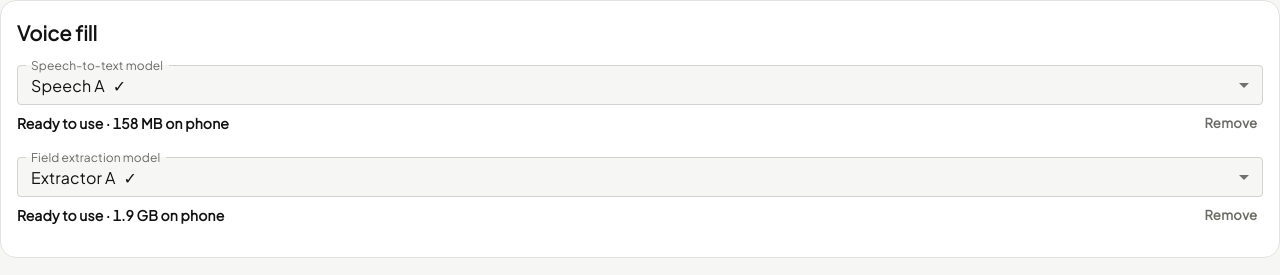
the Voice Fill settings card › Remove returns a ready model to not downloaded
This screenshot has width=1280, height=275.
Click the button with aria-label "Remove Speech A". click: point(1231, 123)
box: [1199,108,1263,138]
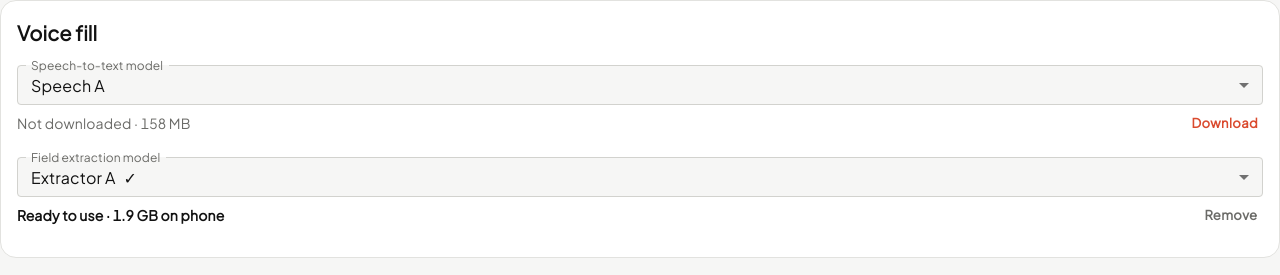
Check: the text "Ready to use · 1.9 GB on phone" is shown, box [17,206,224,224]
Check: the text "Not downloaded · 158 MB" is shown, box [17,114,191,132]
Check: the button with aria-label "Download Speech A" is shown, box [1187,108,1263,138]
